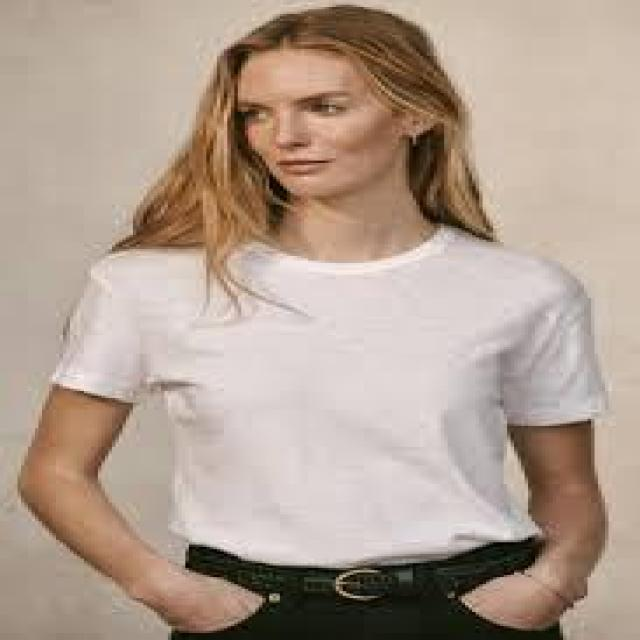Tshirt: (49, 226, 615, 570)
